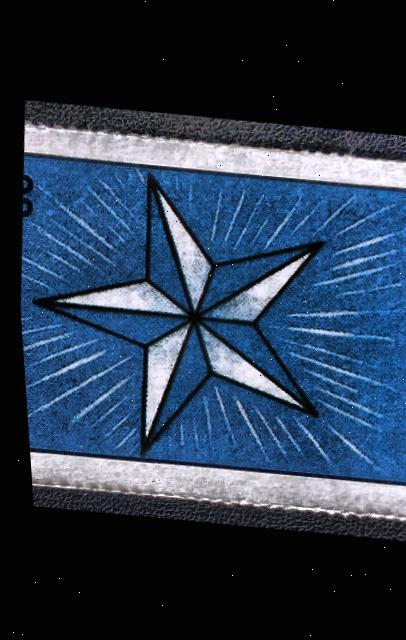La Estrella: (7, 137, 406, 509)
